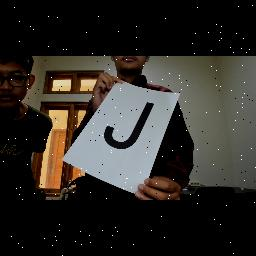j: (102, 102, 156, 154)
